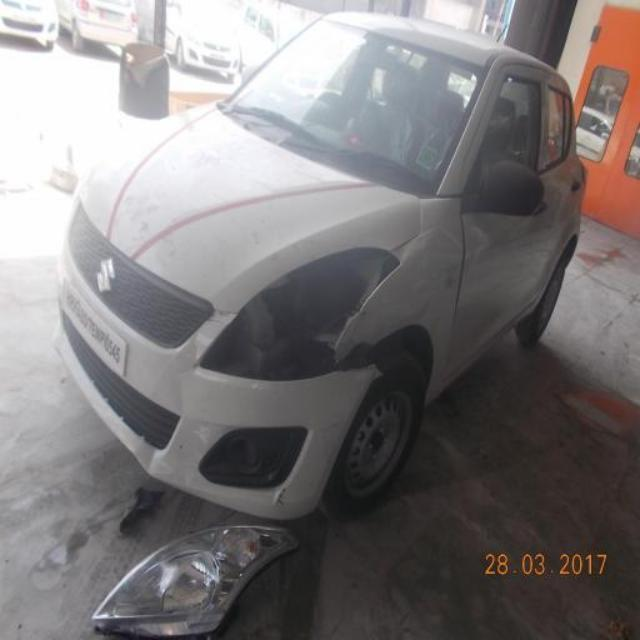dislocated part: (332, 343, 383, 380)
no part: (195, 249, 397, 383), (198, 428, 311, 494)
